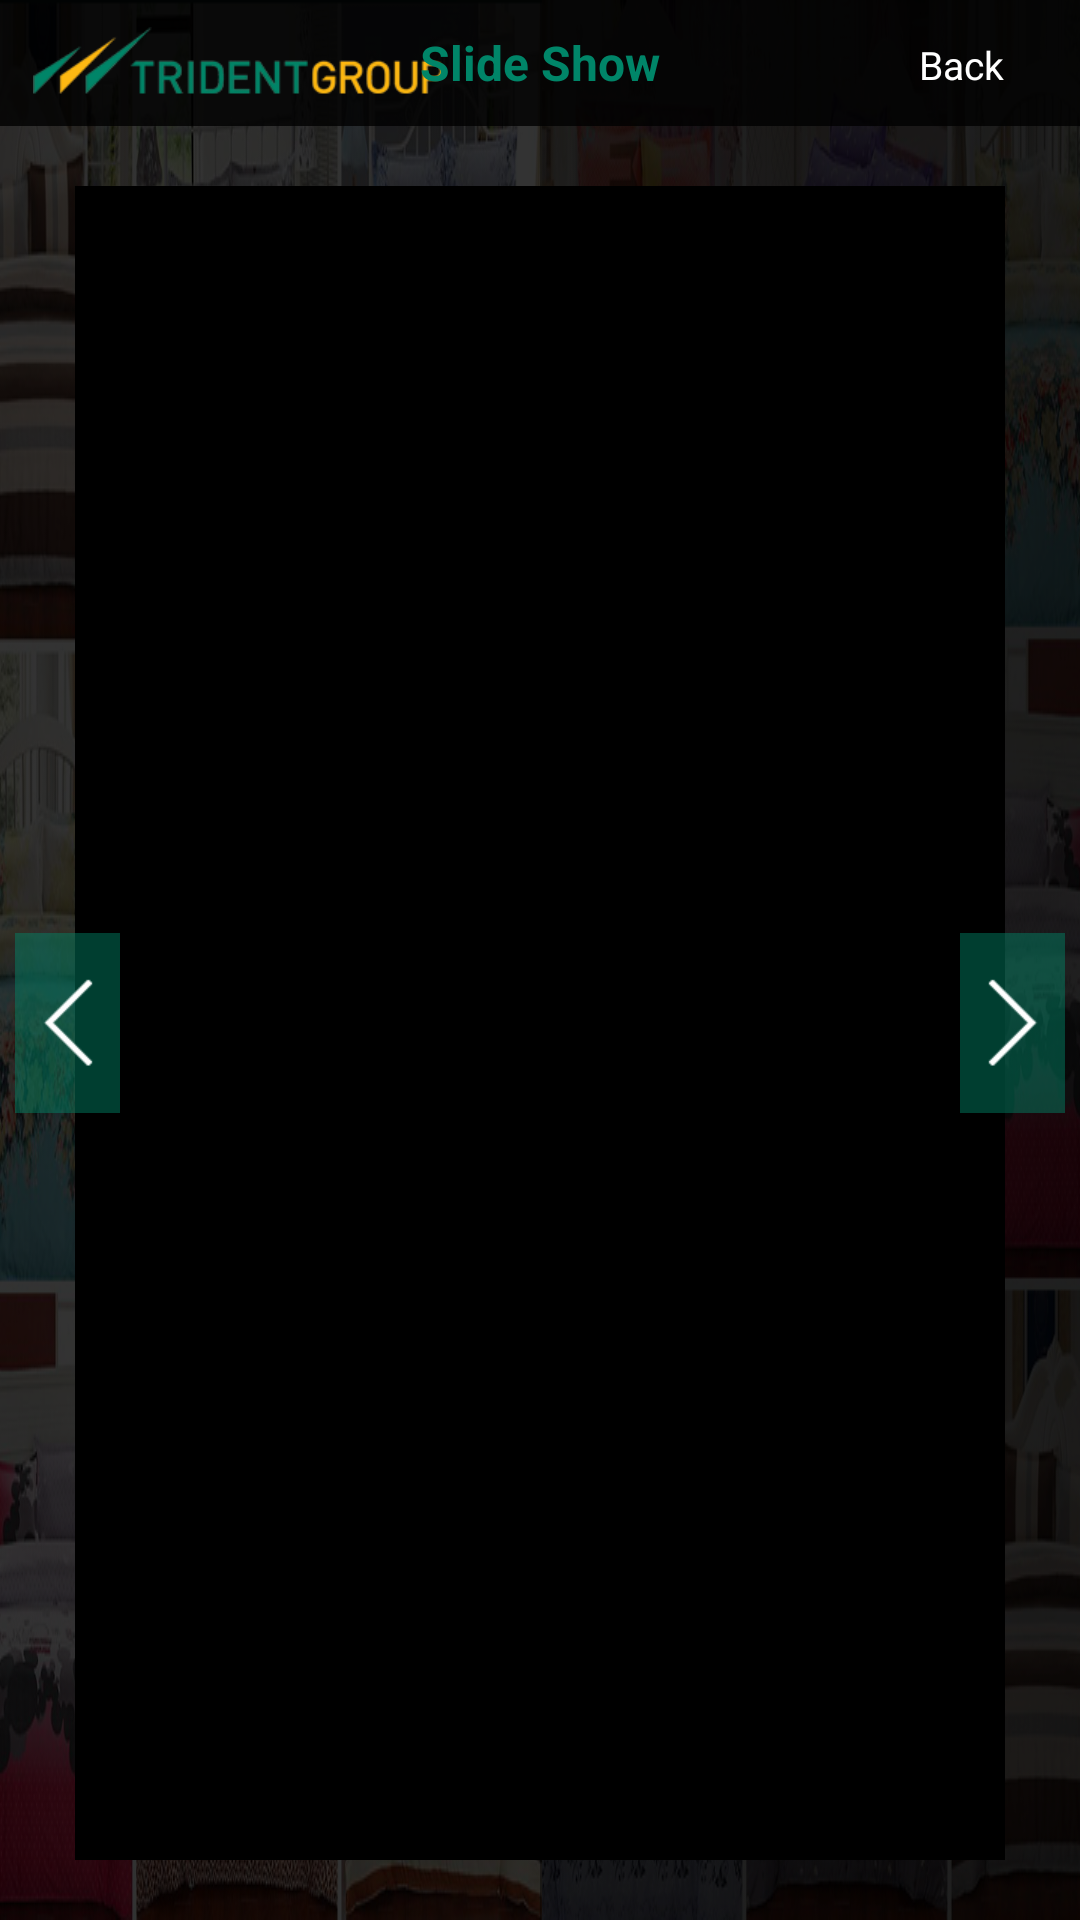

Point at icon controls on the screen. Image size 1080 x 1920, points as (x=x, y=y).
slide back: (x=67, y=1023)
slide forward: (x=1012, y=1023)
